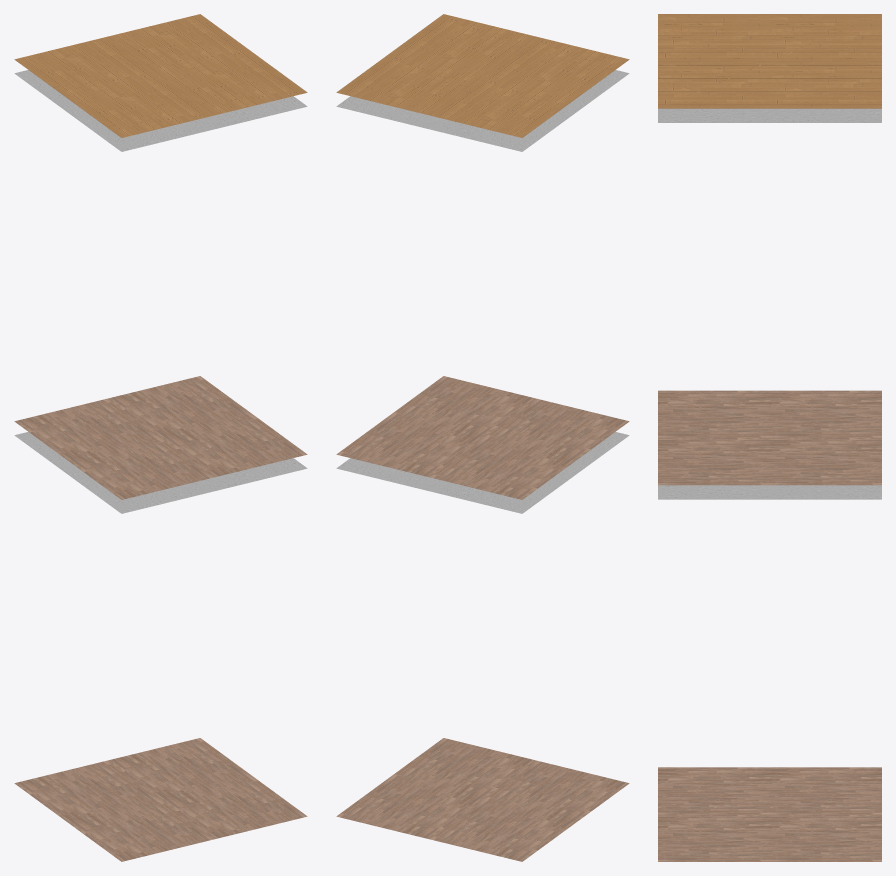
File: SM_Floor_1-2-Attic_200.fbx
The picture shows the model from 3 angles, left to right: view 1: azimuth 30°, elevation 25°; view 2: azimuth 150°, elevation 25°; view 3: azimuth 270°, elevation 25°; orthographic projection. The views are drawn at different scales.
Parts seen in each view (by area): view 1: SM_Floor_1-2-Attic_200; view 2: SM_Floor_1-2-Attic_200; view 3: SM_Floor_1-2-Attic_200.
Part boxes in pixels (bbox=[...]): SM_Floor_1-2-Attic_200: bbox=[14, 14, 307, 861]; SM_Floor_1-2-Attic_200: bbox=[336, 14, 629, 861]; SM_Floor_1-2-Attic_200: bbox=[658, 14, 881, 861].
Size of the model in its own units: 140 by 140 by 520.
3 materials, 3 textured.
